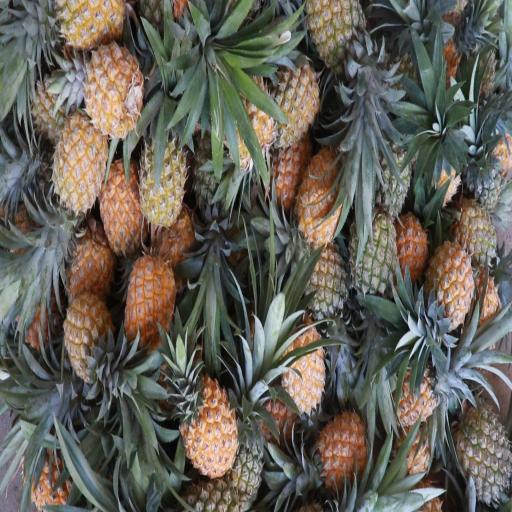------------------------------: (292, 219, 349, 326), (134, 107, 184, 222), (304, 0, 373, 79), (451, 184, 500, 277)
Pineapple - v8 v1: (175, 361, 239, 482), (82, 30, 145, 142), (45, 107, 107, 219), (269, 308, 328, 425), (293, 133, 351, 249), (306, 402, 372, 496), (123, 246, 180, 354), (423, 222, 474, 338), (266, 47, 320, 144), (96, 146, 148, 246), (35, 0, 129, 55), (60, 290, 110, 388)
